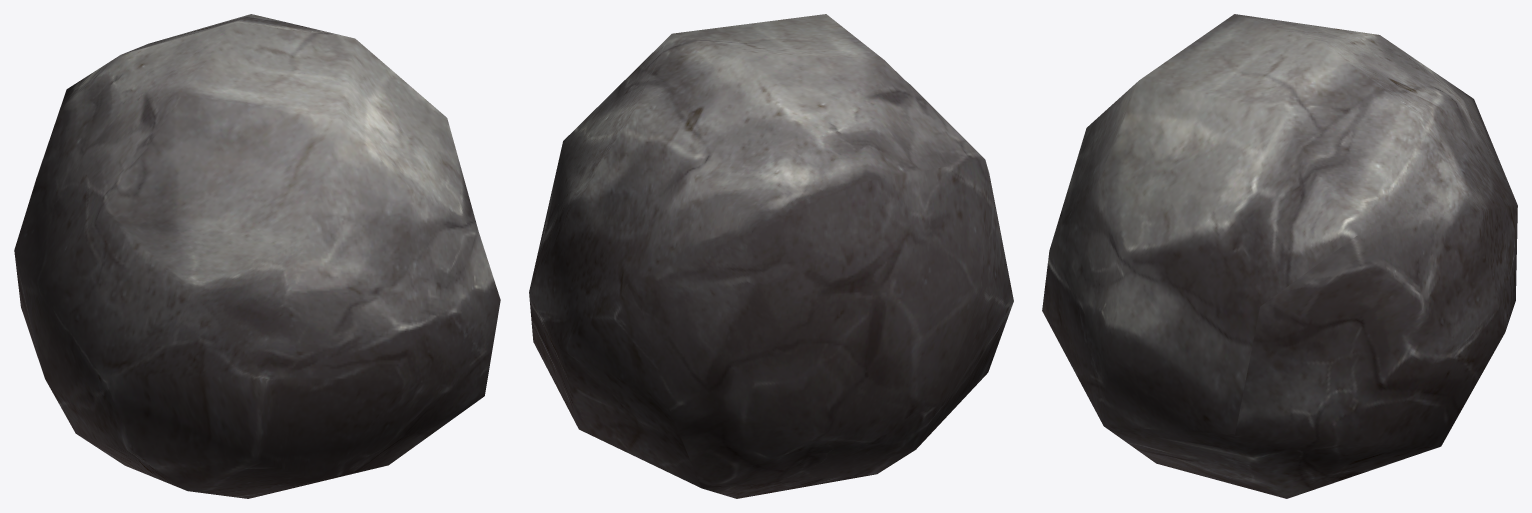
File: yunshi02.FBX
3 views of the same model, side by side, from view 1: azimuth 30°, elevation 25°; view 2: azimuth 150°, elevation 25°; view 3: azimuth 270°, elevation 25° (orthographic). The views are drawn at different scales.
Parts seen in each view (by area): view 1: qudong_hp_attack_04_shitou_bf; view 2: qudong_hp_attack_04_shitou_bf; view 3: qudong_hp_attack_04_shitou_bf.
Boxes of the visible parts, left/top/right/bottom form: qudong_hp_attack_04_shitou_bf: left=14, top=14, right=500, bottom=498; qudong_hp_attack_04_shitou_bf: left=529, top=14, right=1013, bottom=498; qudong_hp_attack_04_shitou_bf: left=1042, top=14, right=1517, bottom=498.
Size of the model in its own units: 194 by 199 by 200.
